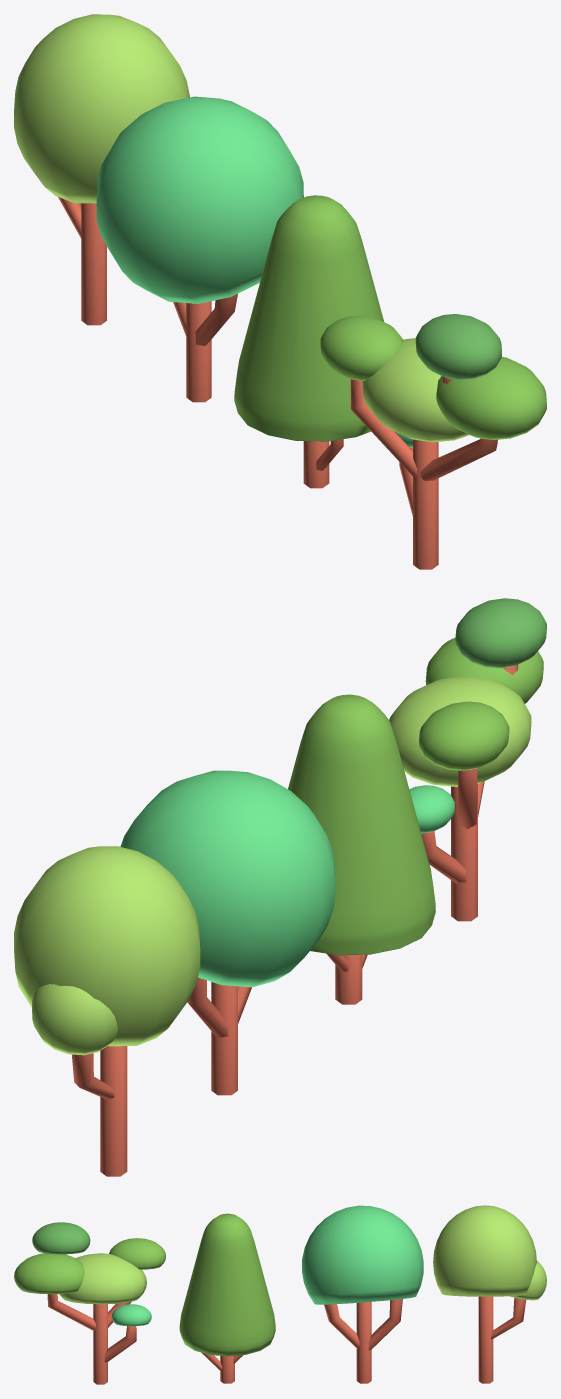
The model's file is assets.gltf.
3 renders of one model, top to bottom at view 1: azimuth 30°, elevation 25°; view 2: azimuth 150°, elevation 25°; view 3: azimuth 270°, elevation 25°, orthographic. The views are drawn at different scales.
Visible parts, largest first — view 1: drzewo0, drzewo2, drzewo3, drzewo1; view 2: drzewo1, drzewo0, drzewo3, drzewo2; view 3: drzewo0, drzewo2, drzewo3, drzewo1.
Part boxes in pixels (x1=…): drzewo0: x1=96, y1=96, x2=303, y2=402; drzewo2: x1=320, y1=314, x2=546, y2=569; drzewo3: x1=234, y1=195, x2=383, y2=488; drzewo1: x1=14, y1=14, x2=189, y2=325; drzewo1: x1=14, y1=846, x2=200, y2=1176; drzewo0: x1=120, y1=770, x2=335, y2=1095; drzewo3: x1=288, y1=694, x2=435, y2=1004; drzewo2: x1=389, y1=598, x2=546, y2=921; drzewo0: x1=302, y1=1205, x2=423, y2=1383; drzewo2: x1=14, y1=1222, x2=165, y2=1384; drzewo3: x1=179, y1=1213, x2=275, y2=1383; drzewo1: x1=433, y1=1205, x2=546, y2=1383.
Bounding box in the file's own units: 1.6 × 2.51 × 6.96.
